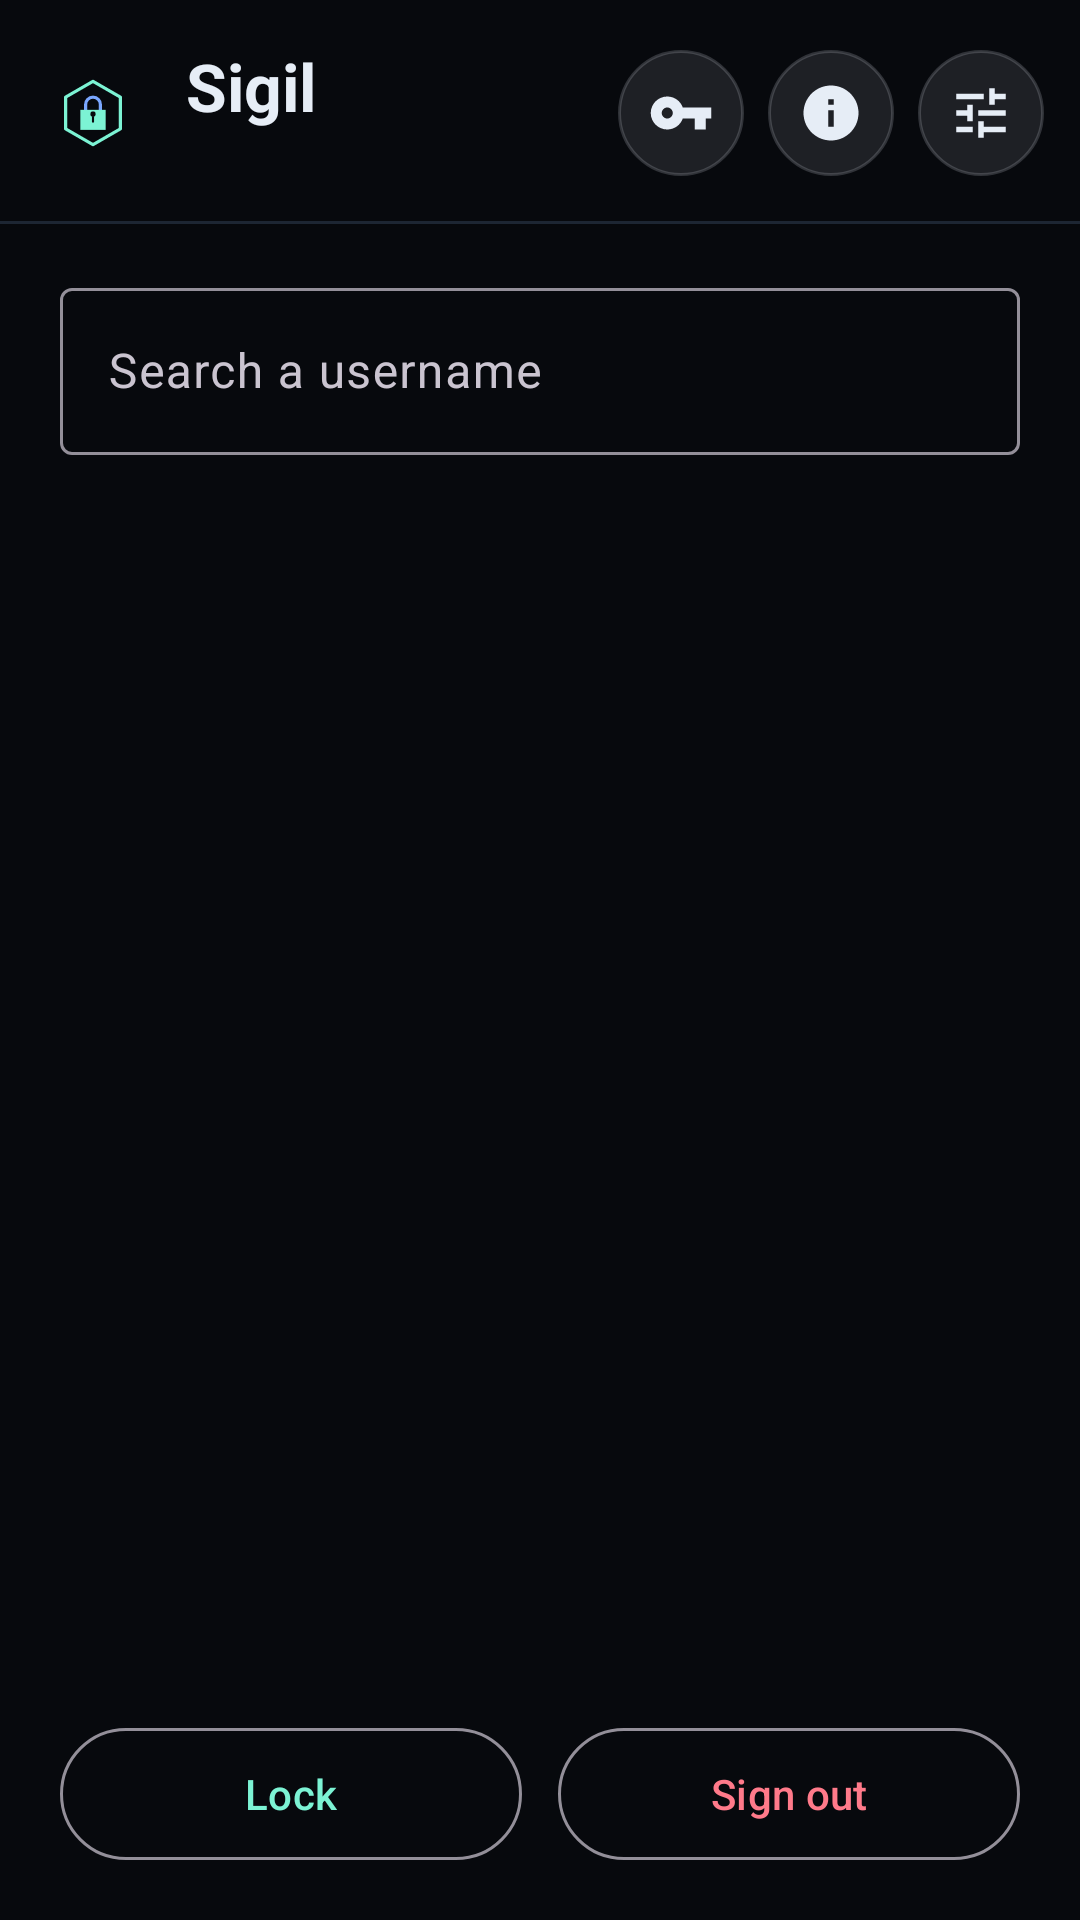

Where icons sit on this 1080px x 1920px app screen, as (x1, y1, x2, y2):
About: (768, 50, 894, 176)
Keys: (618, 50, 744, 176)
Settings: (918, 50, 1044, 176)
